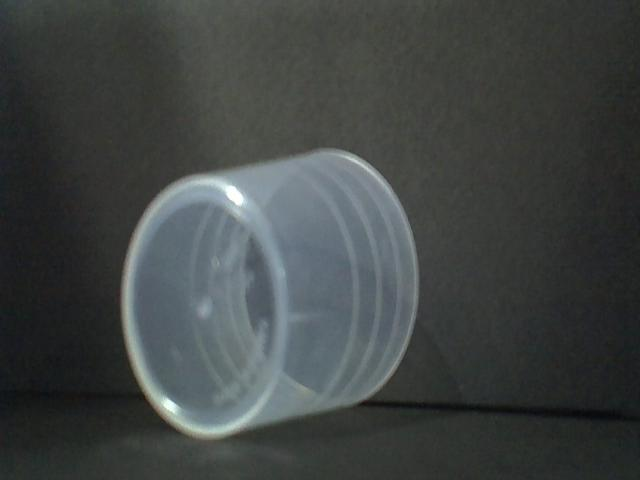cup: (116, 144, 423, 450)
